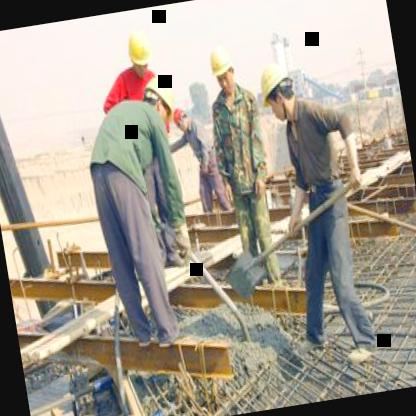helmet: (254, 54, 300, 128), (140, 69, 178, 127), (205, 38, 240, 98), (120, 22, 156, 77), (170, 100, 191, 134)
